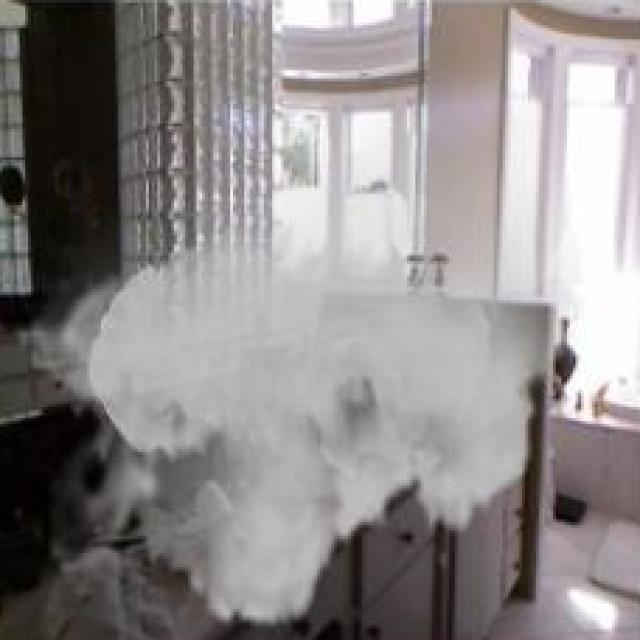fire: (19, 181, 582, 630)
